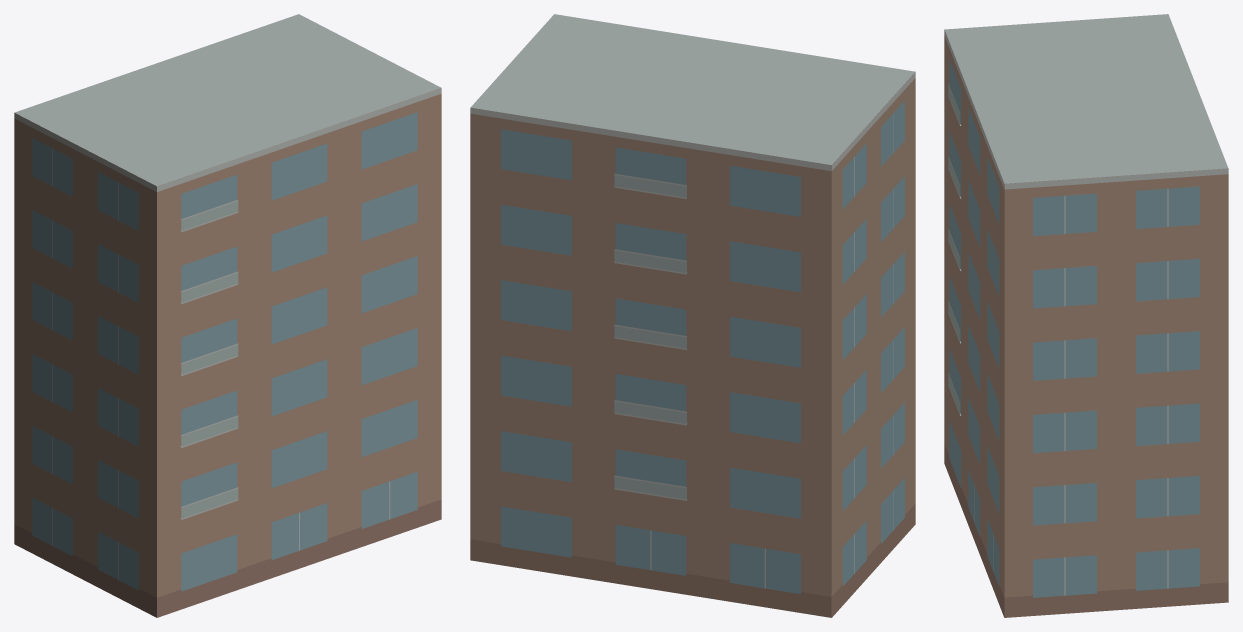
File: survey-upis-32736060.glb
3 renders of one model, left to right at view 1: azimuth 30°, elevation 25°; view 2: azimuth 150°, elevation 25°; view 3: azimuth 270°, elevation 25°, orthographic. The views are drawn at different scales.
Visible parts, largest first — view 1: survey-upis-32736060.tmp; view 2: survey-upis-32736060.tmp; view 3: survey-upis-32736060.tmp.
Part boxes in pixels (left/top/right/bottom): survey-upis-32736060.tmp: left=14, top=14, right=441, bottom=617; survey-upis-32736060.tmp: left=470, top=14, right=915, bottom=617; survey-upis-32736060.tmp: left=944, top=14, right=1228, bottom=617.
Size of the model in its own units: 15.36 by 18.3 by 10.86.
